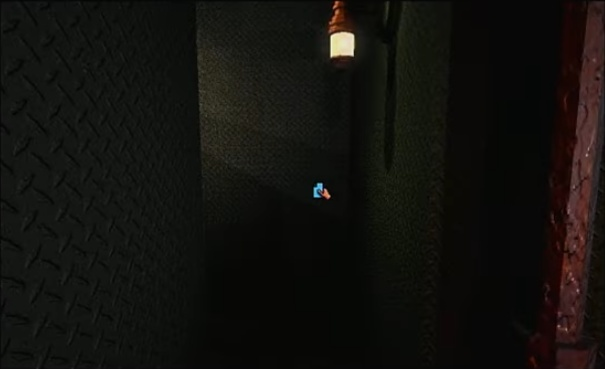Keep: (309, 176, 334, 203)
